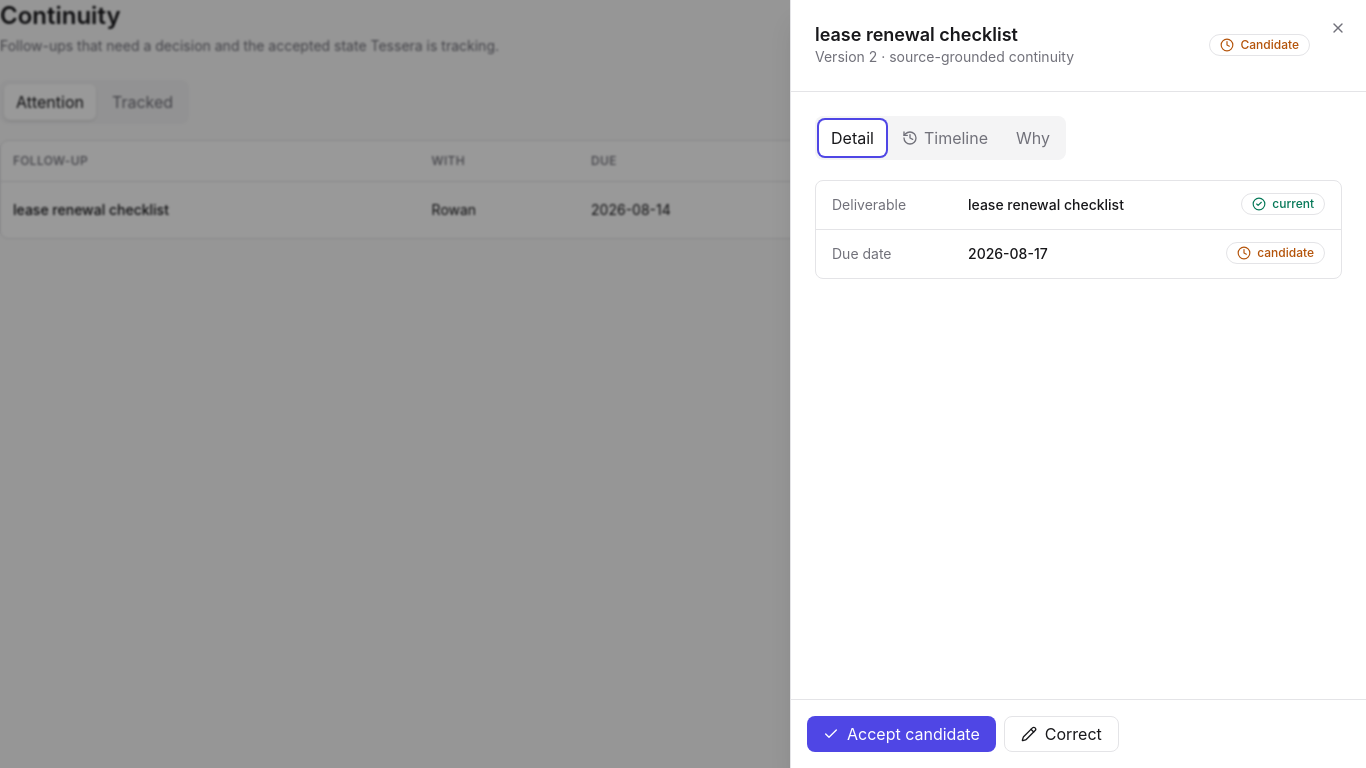
Test: FollowUpWorkspace › closes correction with Escape and restores focus to Correct
Click the button "Correct" at (1061, 734), box [1004,716,1119,752]
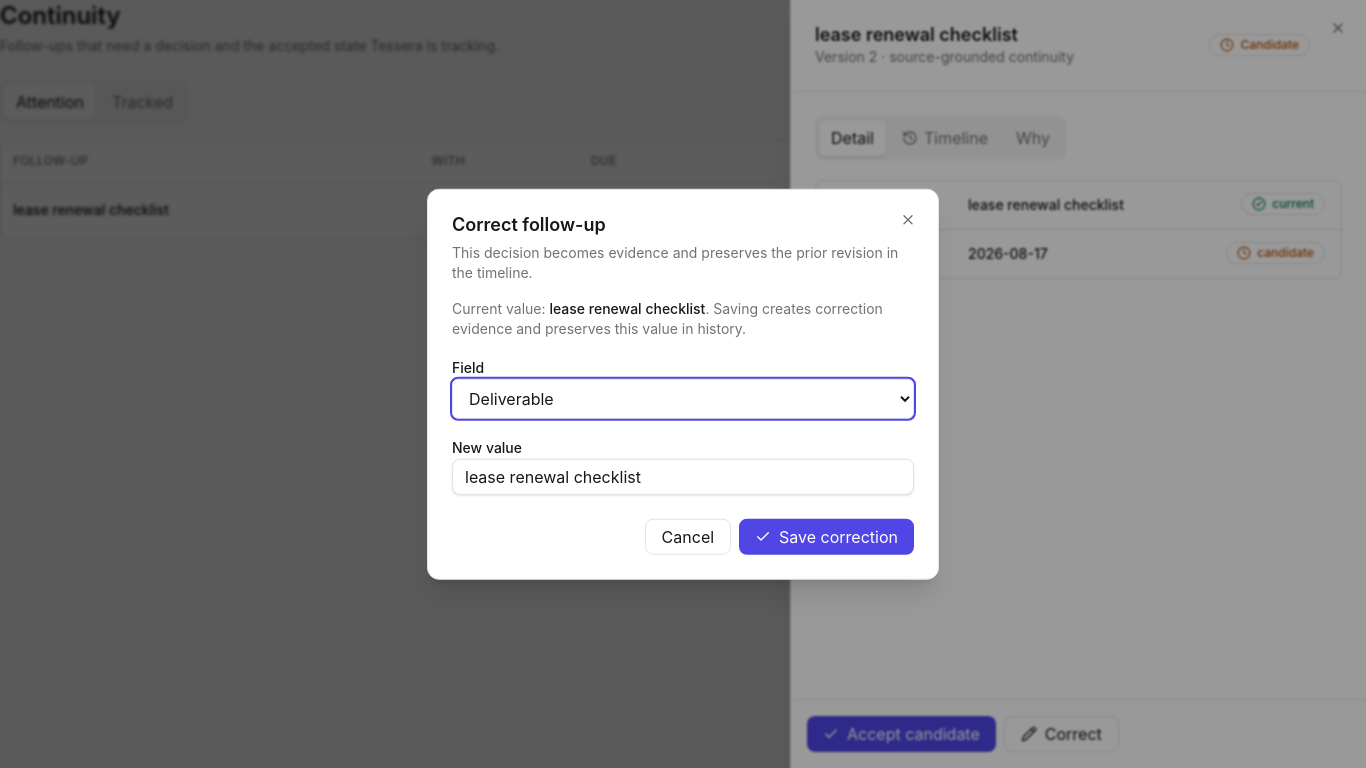
Check: the dialog "Correct follow-up" is shown, box [427,189,939,579]
Press Escape
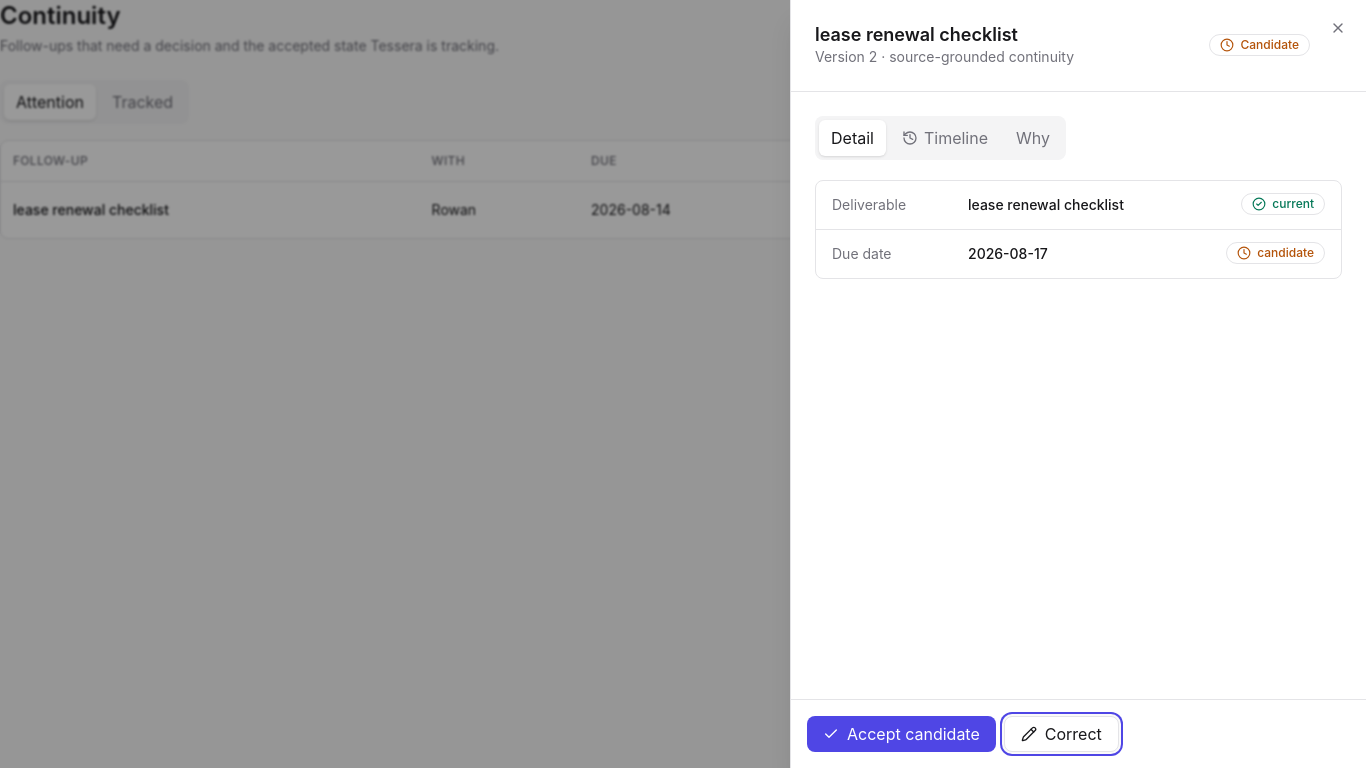
Check: the heading "Correct follow-up" is gone
